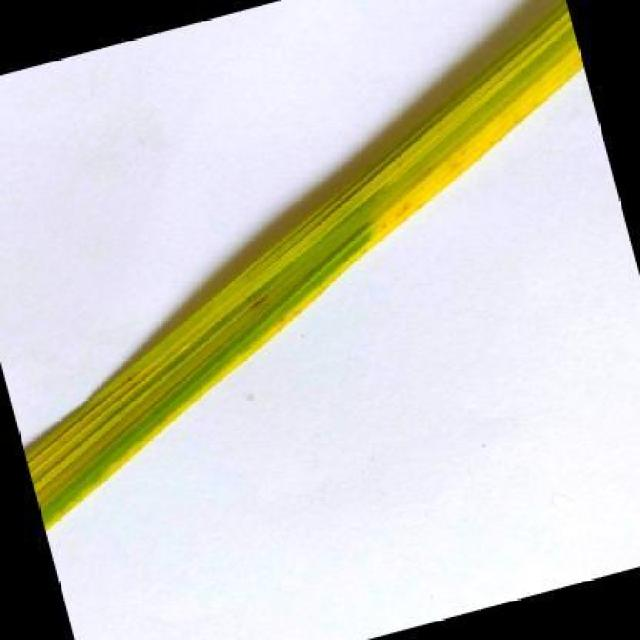Rice False Smut: (0, 0, 640, 535)
